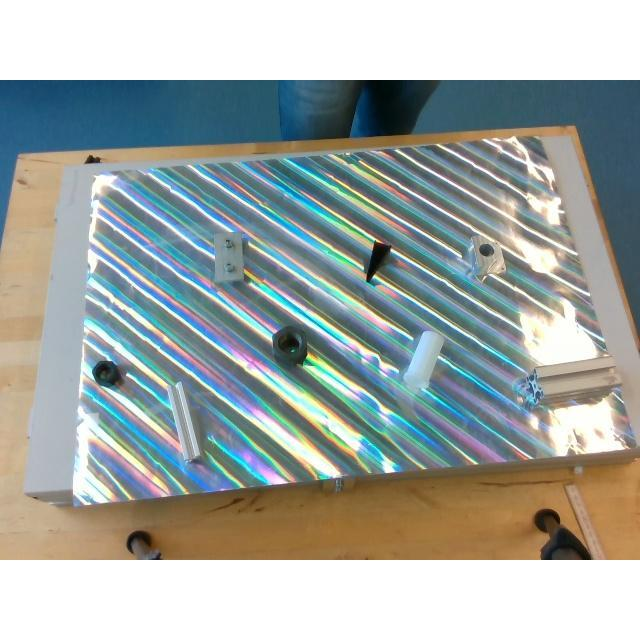F20_20_G: (168, 380, 200, 460)
M20: (92, 360, 120, 384)
M30: (270, 325, 306, 363)
S40_40_G: (524, 355, 620, 407)
Spacer: (402, 330, 442, 386)
